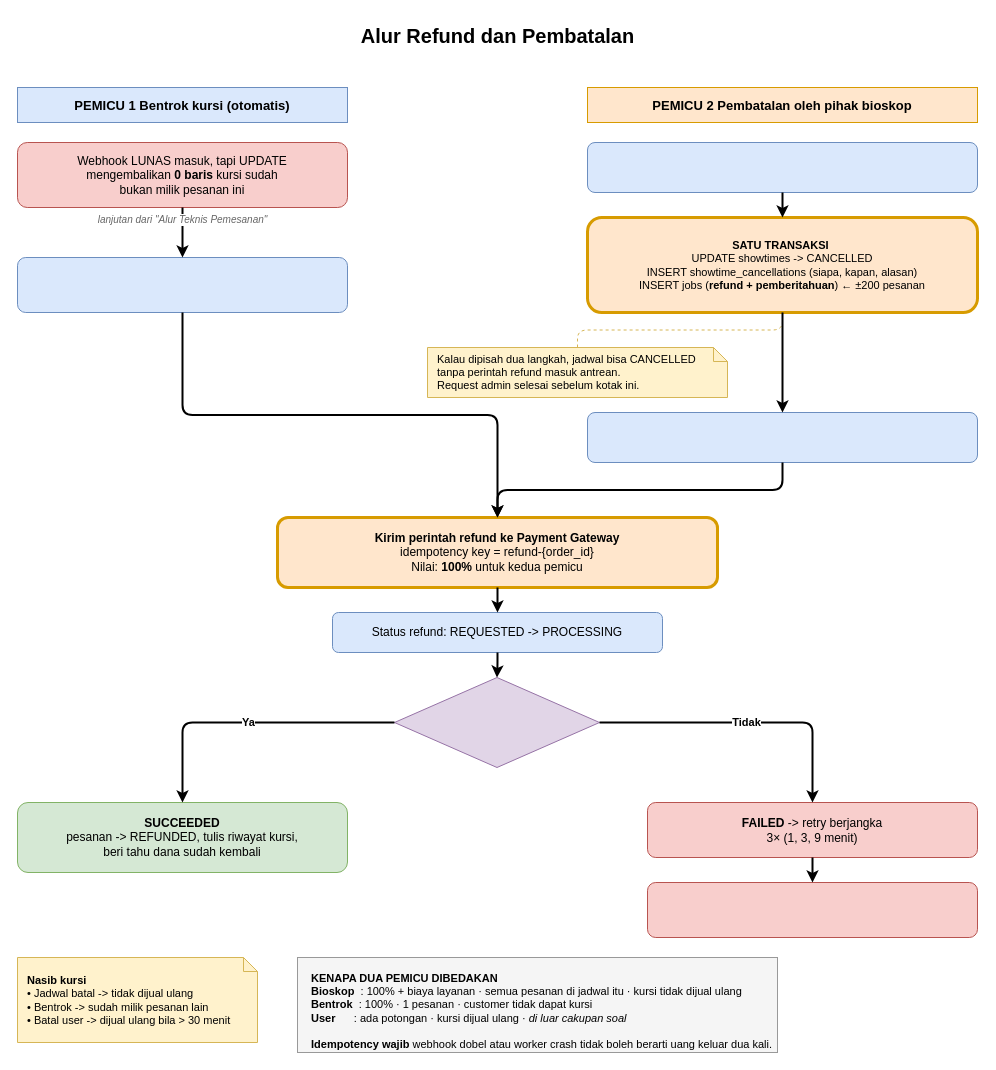
This 996x1070 diagram has some shape labels left out. The centre of each missing label's shape, as x and y in pixels:
Admin klik "Batalkan Jadwal" + wajib mengisi alasan: pixel 782 167
Buat permintaan refund UNIQUE (payment_id) satu pembayaran, satu refund: pixel 182 284
Masih gagal -> alert tim + penanganan manual: pixel 812 910
Payment Gateway mengonfirmasi?: pixel 497 722
Worker mengambil antrean (tabel jobs ) satu per satu: pixel 782 437
